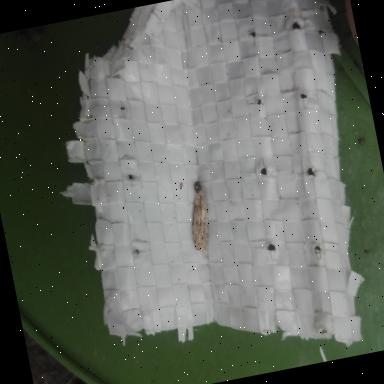pbw: (184, 188, 216, 254)
